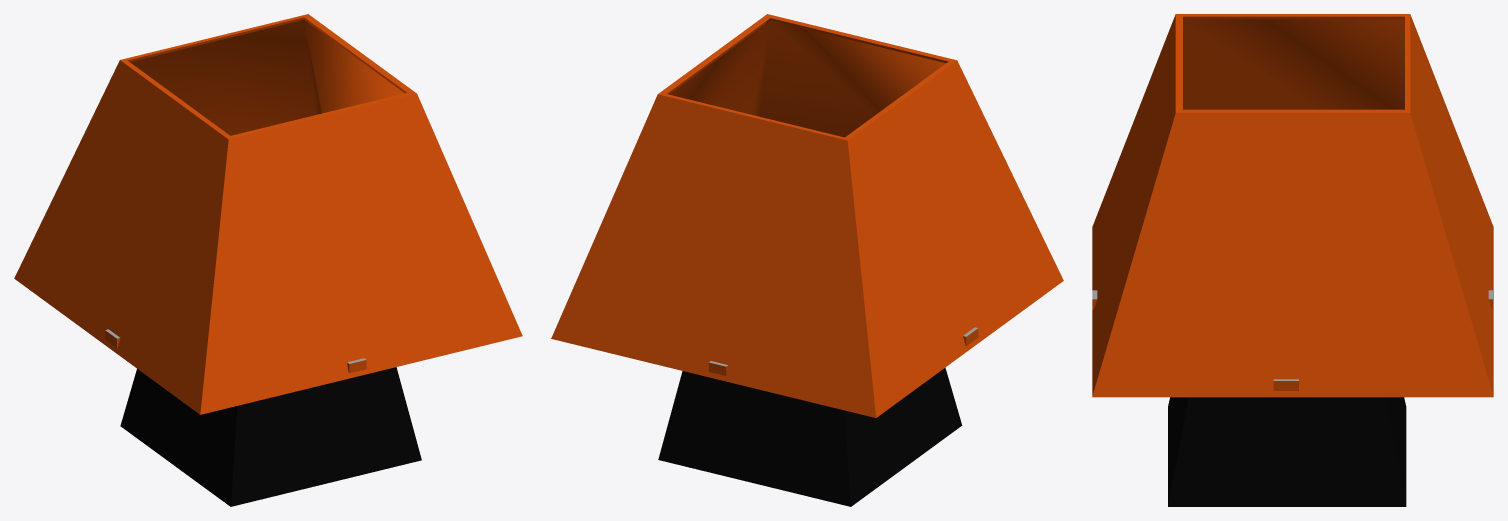
The model's file is Masa-Lambamız.fbx.
The picture shows the model from 3 angles, left to right: view 1: azimuth 30°, elevation 25°; view 2: azimuth 150°, elevation 25°; view 3: azimuth 270°, elevation 25°; orthographic projection. The views are drawn at different scales.
Parts seen in each view (by area): view 1: pCube5; view 2: pCube5; view 3: pCube5.
Part boxes in pixels (box(x1,y1,x2,y2)): pCube5: box(14, 14, 522, 506); pCube5: box(551, 14, 1063, 506); pCube5: box(1092, 14, 1493, 506).
Size of the model in its own units: 0.4785 by 0.5167 by 0.4785.
